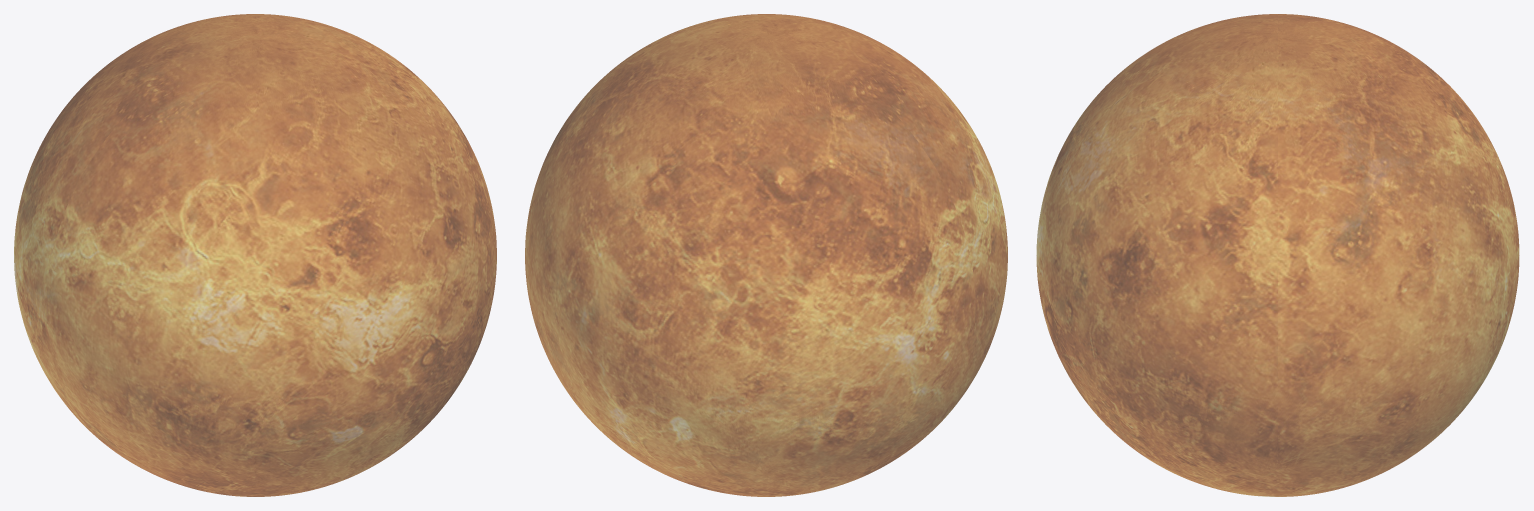
File: mercury.obj
3 views of the same model, side by side, from view 1: azimuth 30°, elevation 25°; view 2: azimuth 150°, elevation 25°; view 3: azimuth 270°, elevation 25° (orthographic).
Visible parts, largest first — view 1: Plane_Plane.001; view 2: Plane_Plane.001; view 3: Plane_Plane.001.
Boxes of the visible parts, x1,y1,x2,y2 form: Plane_Plane.001: (14,14,496,496); Plane_Plane.001: (525,14,1007,496); Plane_Plane.001: (1036,14,1519,496).
Size of the model in its own units: 1.05 by 1.05 by 1.05.
1 material, 1 textured.
